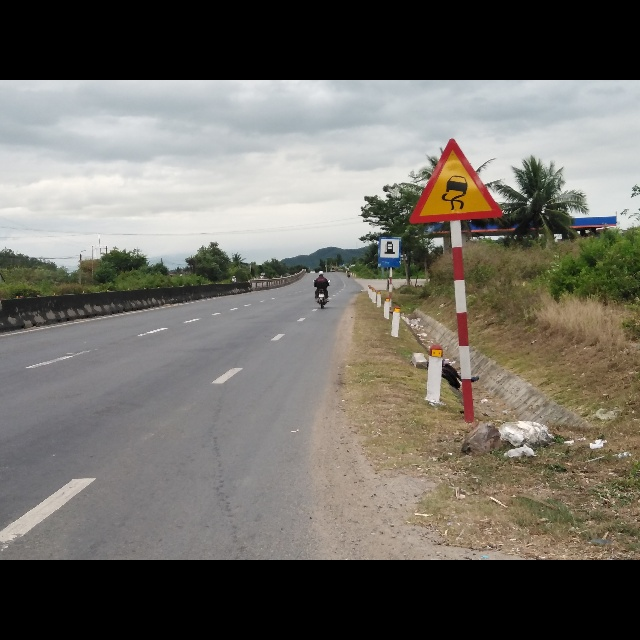Đường trơn trượt: (406, 136, 505, 224)
